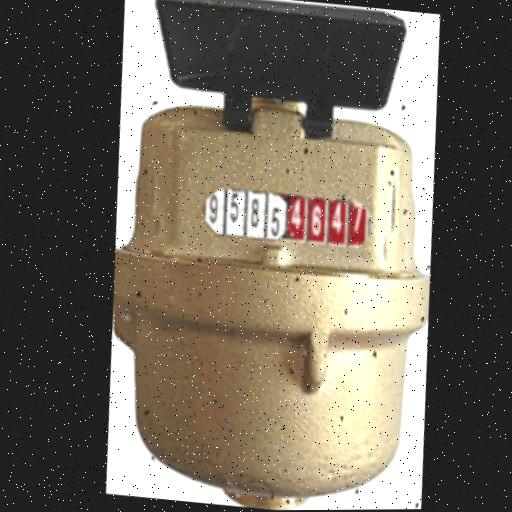4: (285, 193, 310, 241), (325, 199, 350, 246)
5: (264, 192, 291, 241), (223, 189, 249, 236)
6: (306, 196, 329, 243)
7: (347, 202, 375, 247)
8: (242, 190, 269, 238)
9: (201, 186, 227, 235)
border_water_meter_number: (199, 184, 376, 251)
